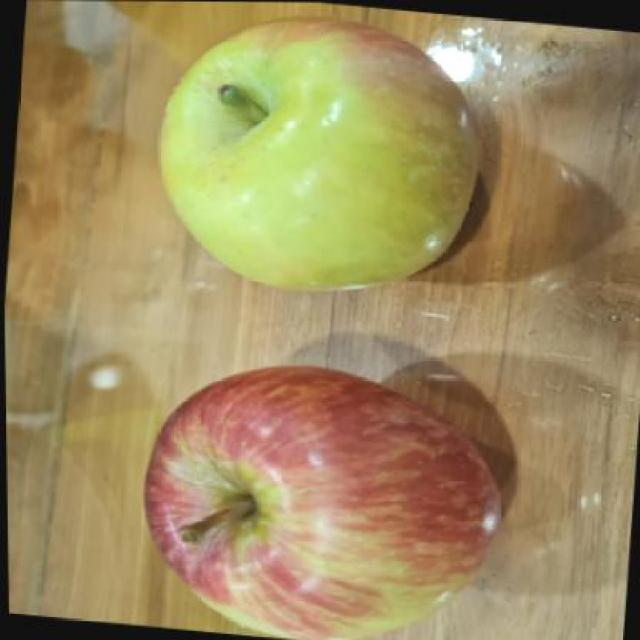Fresh Apple: (138, 371, 496, 636), (154, 16, 484, 298)
